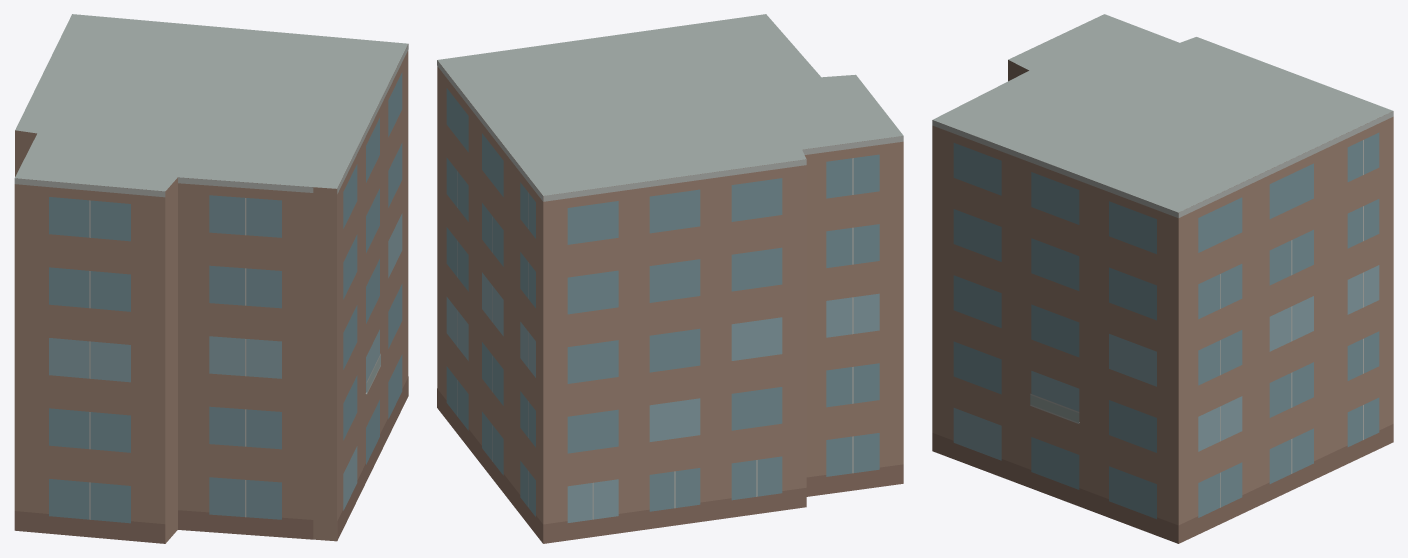
The model's file is survey-upis-32948345.glb.
3 views of the same model, side by side, from view 1: azimuth 30°, elevation 25°; view 2: azimuth 150°, elevation 25°; view 3: azimuth 270°, elevation 25° (orthographic). The views are drawn at different scales.
Visible parts, largest first — view 1: survey-upis-32948345.tmp; view 2: survey-upis-32948345.tmp; view 3: survey-upis-32948345.tmp.
Part boxes in pixels (x1,y1,x2,y2): survey-upis-32948345.tmp: (14, 14, 408, 543); survey-upis-32948345.tmp: (437, 14, 903, 543); survey-upis-32948345.tmp: (932, 14, 1393, 543).
Size of the model in its own units: 18.66 by 14.5 by 18.3.
